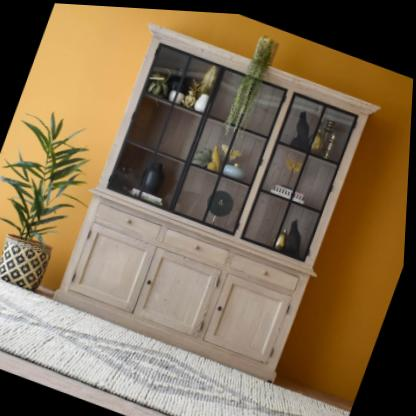Carpet: (0, 278, 354, 416)
Cupboard: (51, 13, 384, 382)
